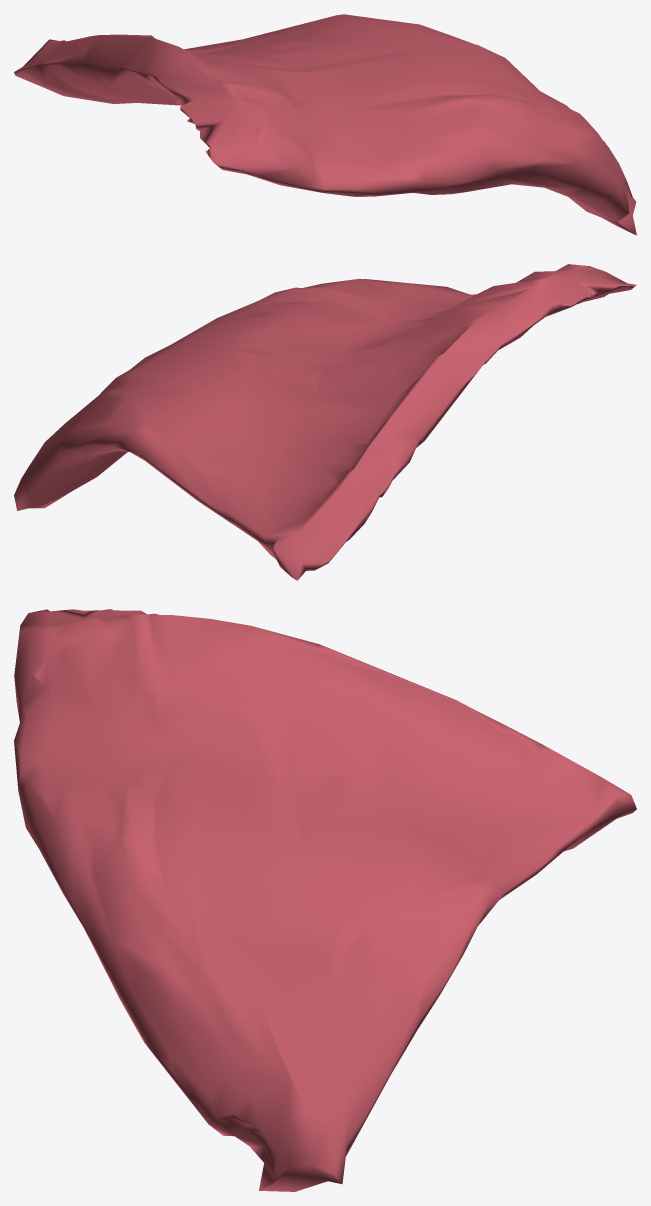
3 views of the same model, one above another, from view 1: azimuth 30°, elevation 25°; view 2: azimuth 150°, elevation 25°; view 3: azimuth 270°, elevation 25° (orthographic). The views are drawn at different scales.
Parts seen in each view (by area): view 1: 左侧拇收肌横头; view 2: 左侧拇收肌横头; view 3: 左侧拇收肌横头.
Boxes of the visible parts, x1,y1,x2,y2 form: 左侧拇收肌横头: (14,14,636,235); 左侧拇收肌横头: (14,264,636,580); 左侧拇收肌横头: (14,609,636,1191).
Size of the model in its own units: 0.0629 by 0.0343 by 0.0581.
